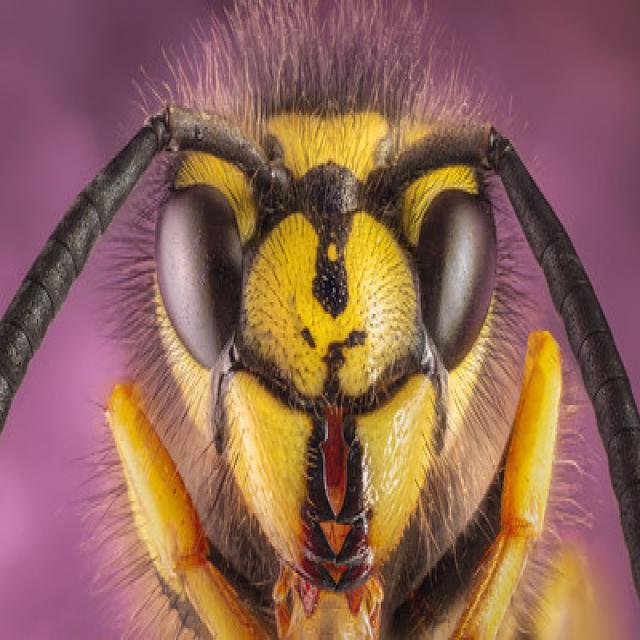Guepe: (0, 0, 639, 638)
